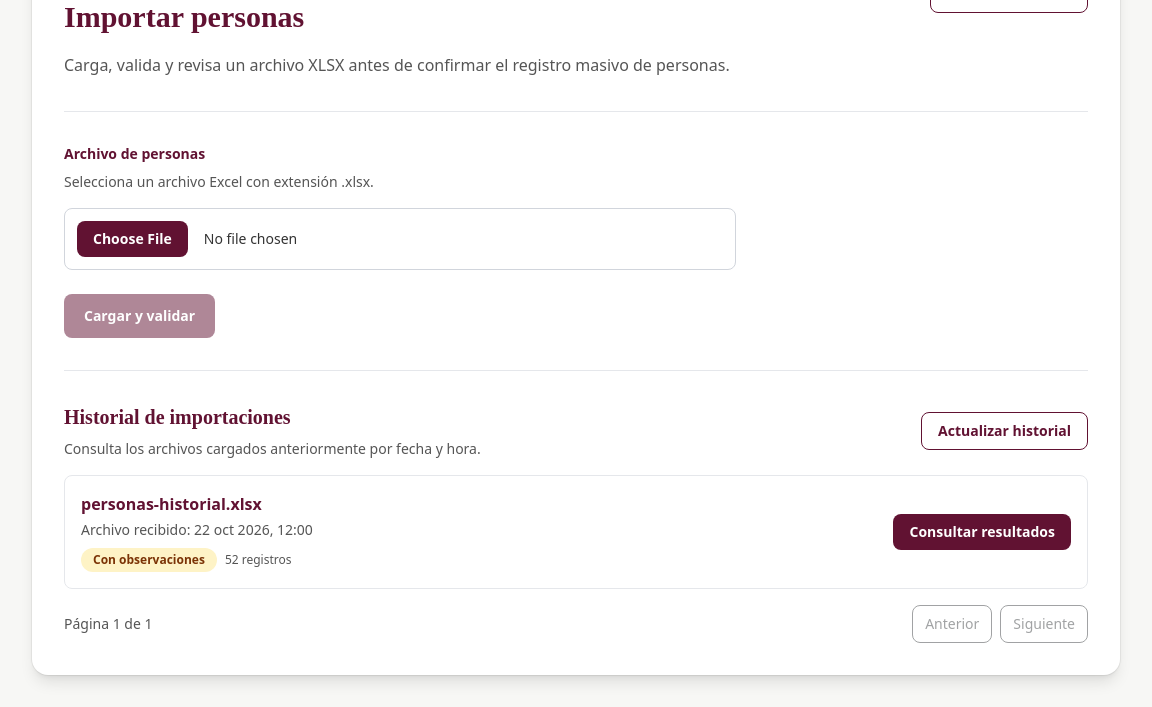
Test case: PersonImportPageComponent › abre y cierra resultados con el mismo boton
(page scrolled)
Click the button with test id "person-import-history-consult" at [982, 532], box left=894, top=514, right=1071, bottom=550
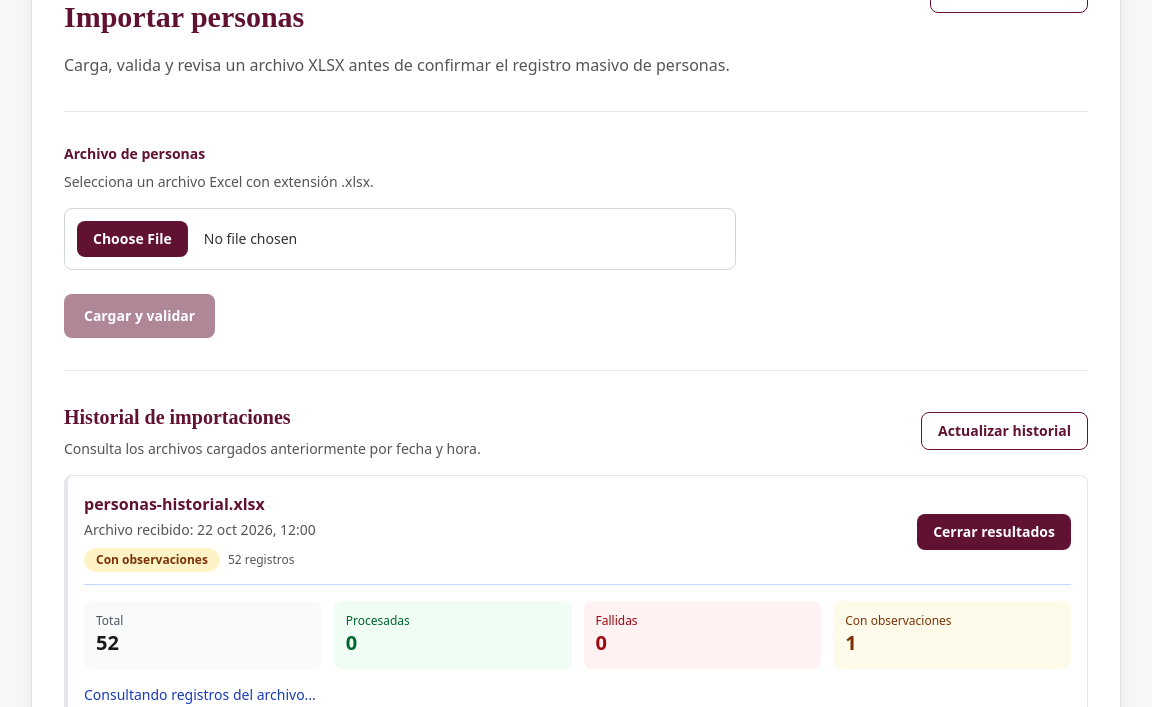
Expected: the button with test id "person-import-history-consult" reads "Cerrar resultados"
Expected: the button with test id "person-import-history-consult" is expanded
Click the button with test id "person-import-history-consult" at [994, 532], box left=917, top=514, right=1071, bottom=550
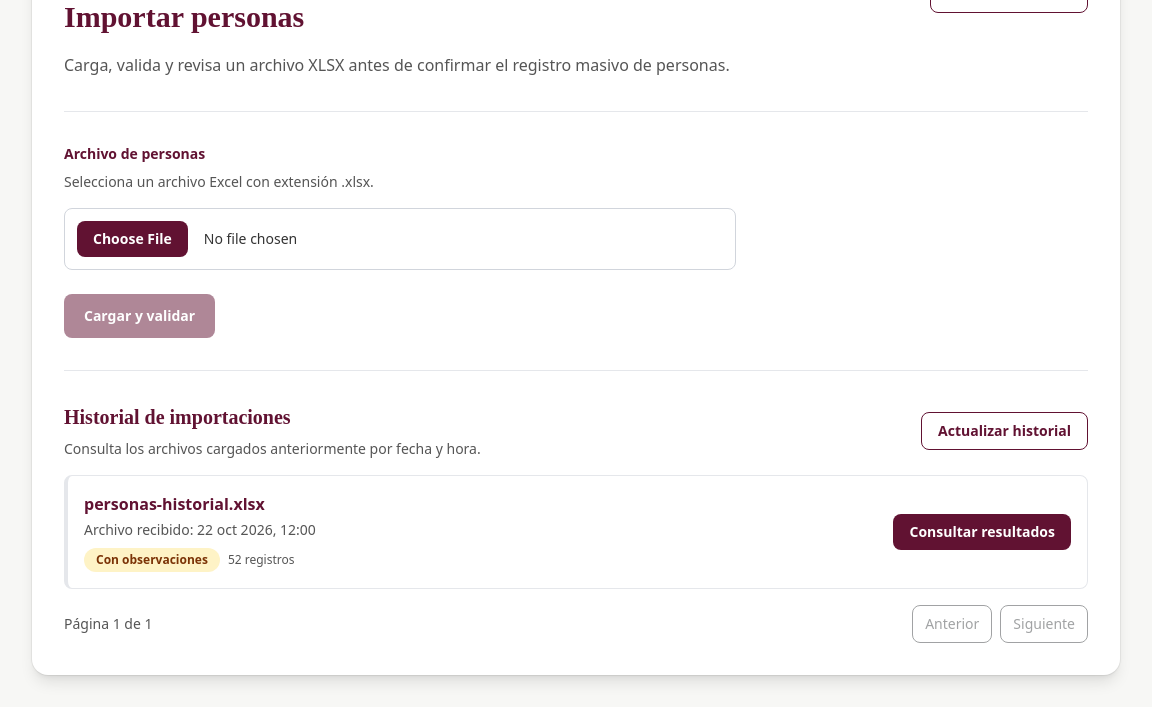
Expected: the button with test id "person-import-history-consult" reads "Consultar resultados", left=894, top=514, right=1071, bottom=550
Expected: the button with test id "person-import-history-consult" is collapsed, left=894, top=514, right=1071, bottom=550
